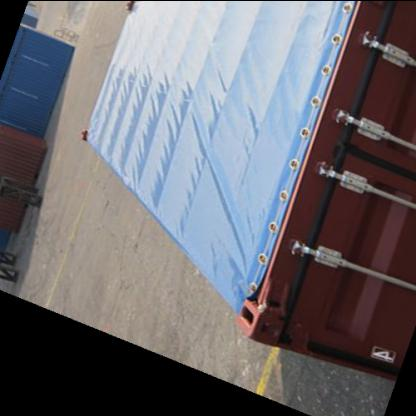Damage: (256, 274, 306, 350), (323, 126, 363, 182)
